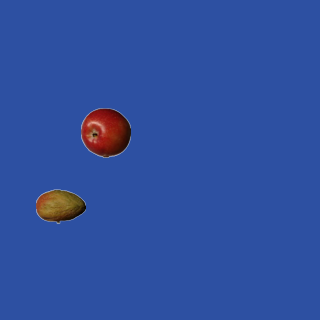Apple Braeburn: (80, 107, 130, 157)
Papaya: (35, 181, 85, 231)
